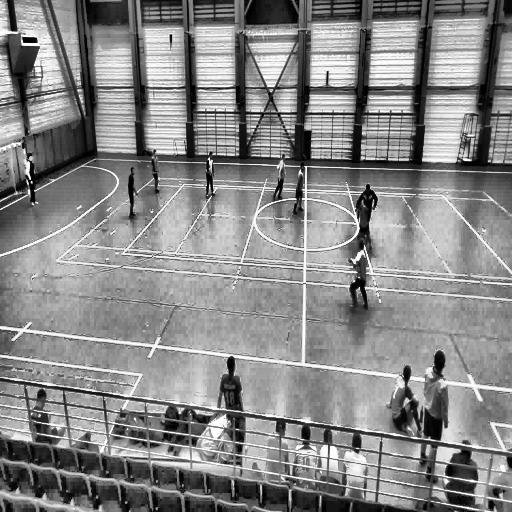ball: (212, 187, 216, 198)
player: (419, 352, 449, 480), (349, 235, 369, 313), (356, 182, 377, 227), (357, 200, 373, 255), (292, 158, 306, 216), (24, 151, 38, 205), (272, 152, 286, 203), (128, 166, 138, 218), (206, 150, 216, 198), (151, 148, 160, 192)
